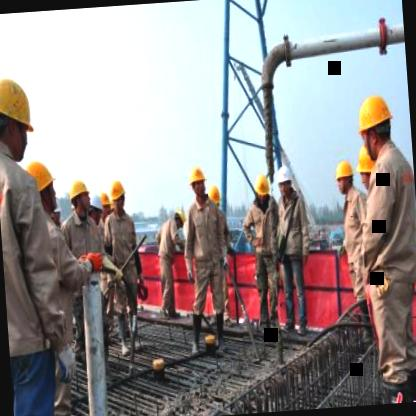helmet: (0, 63, 41, 164), (352, 87, 398, 166), (22, 154, 60, 212), (65, 173, 93, 222), (356, 140, 380, 194), (334, 158, 356, 205), (188, 165, 209, 201), (251, 171, 272, 204), (86, 192, 106, 225), (276, 162, 292, 194), (108, 178, 124, 210), (172, 204, 189, 230)
